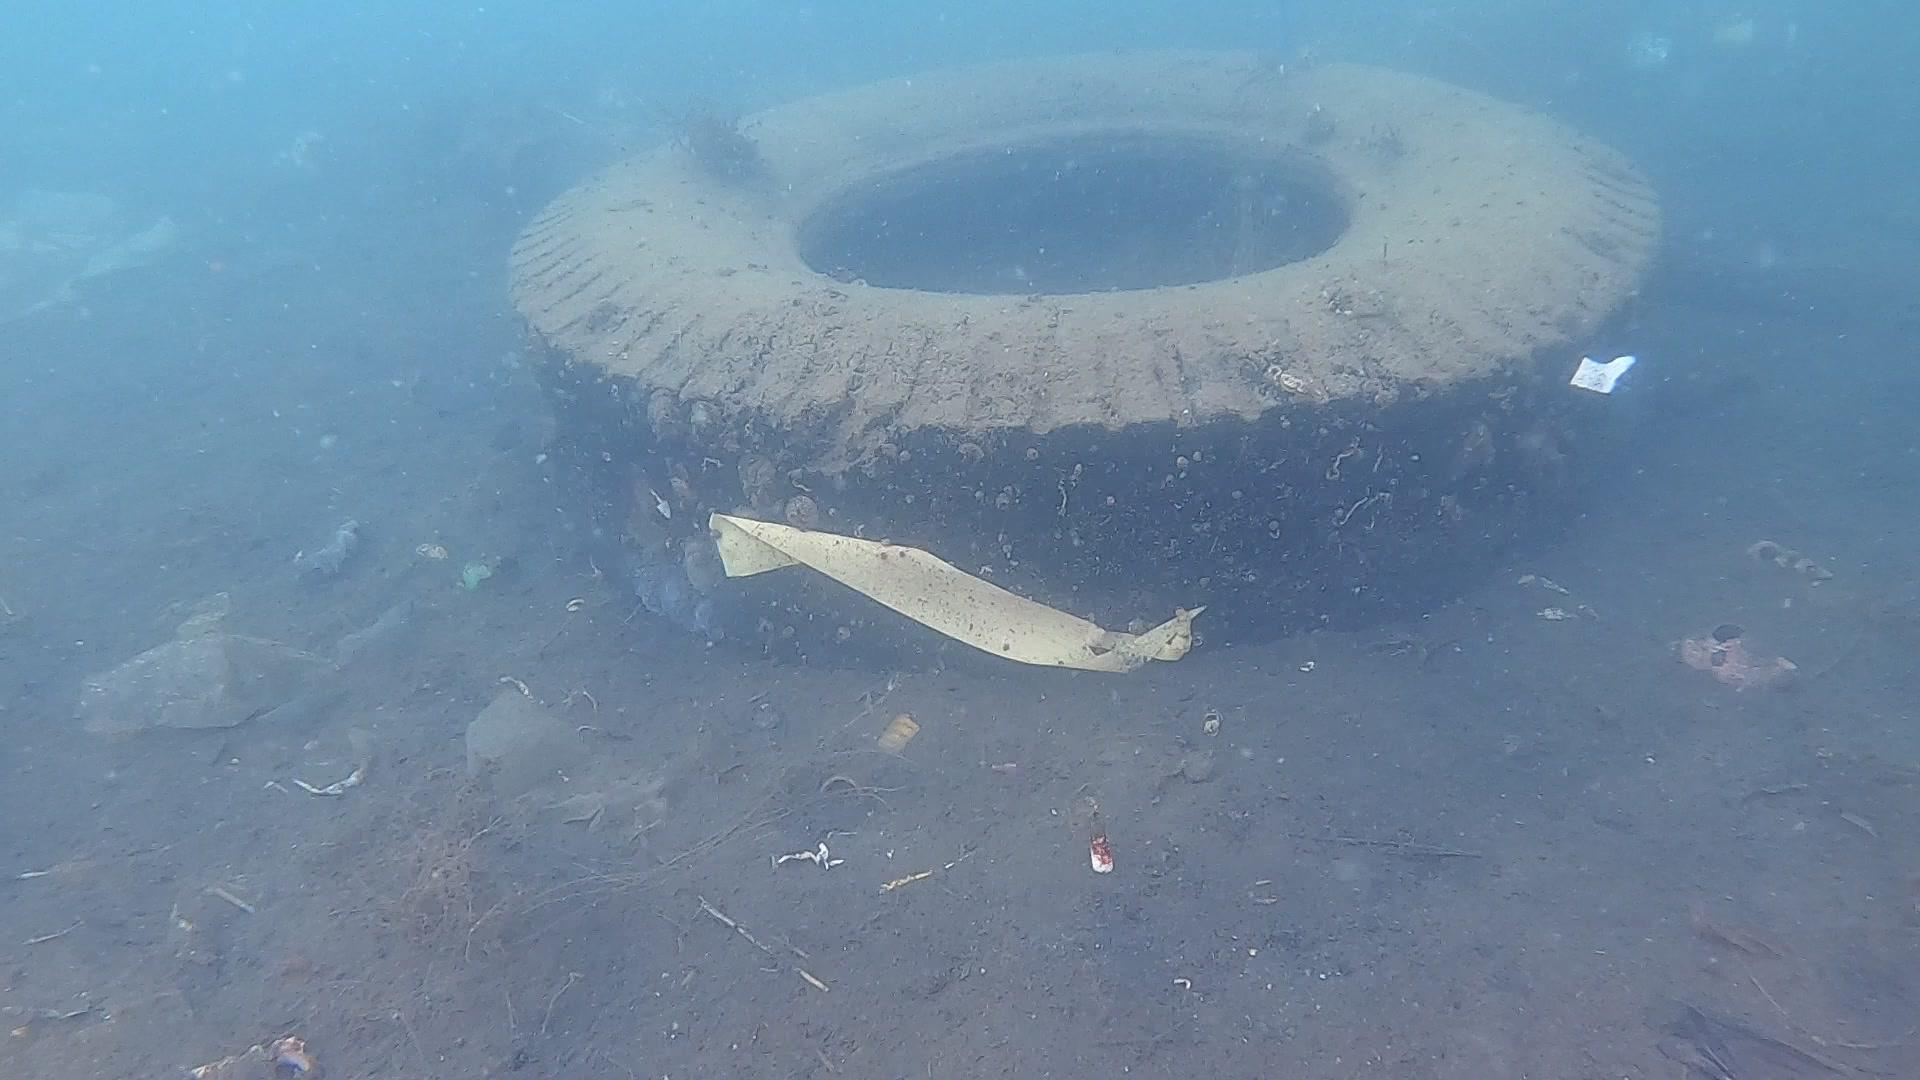tire: (500, 47, 1671, 673)
